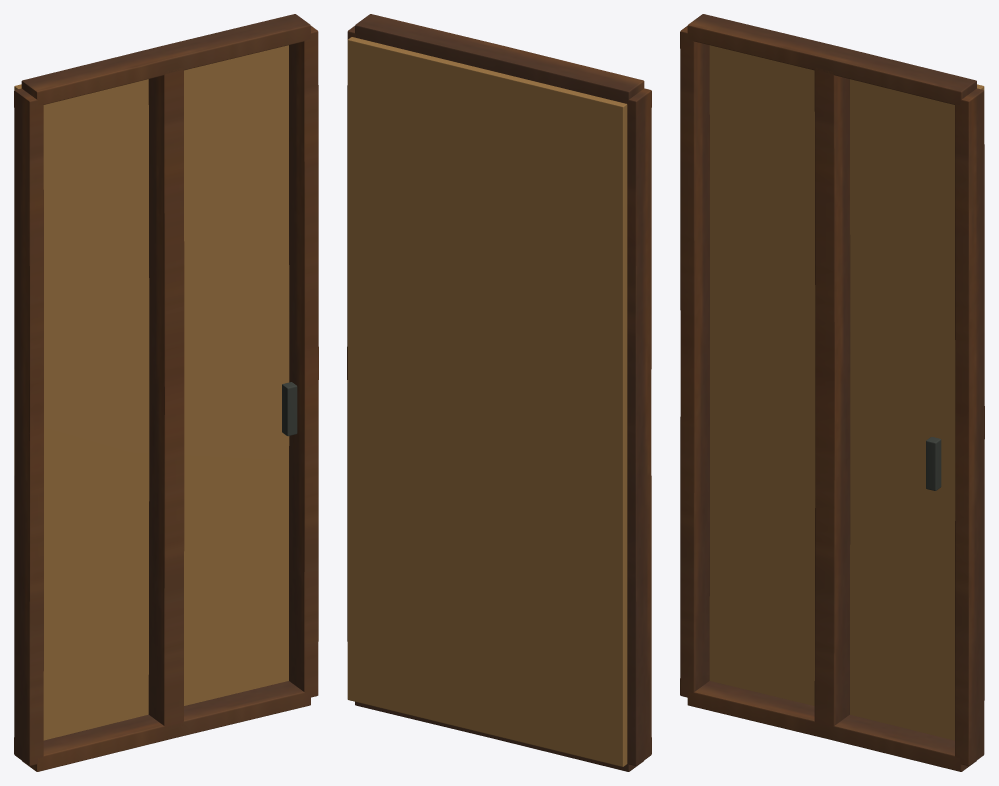
The model's file is CM_PairedWindowBay02_Casement_R.fbx.
3 renders of one model, left to right at view 1: azimuth 30°, elevation 25°; view 2: azimuth 150°, elevation 25°; view 3: azimuth 330°, elevation 25°, orthographic.
Parts seen in each view (by area): view 1: CM_PairedWindowBay02_Casement_R_Geometry; view 2: CM_PairedWindowBay02_Casement_R_Geometry; view 3: CM_PairedWindowBay02_Casement_R_Geometry.
Part boxes in pixels (x1,y1,x2,y2): CM_PairedWindowBay02_Casement_R_Geometry: [14, 14, 318, 771]; CM_PairedWindowBay02_Casement_R_Geometry: [347, 14, 651, 771]; CM_PairedWindowBay02_Casement_R_Geometry: [680, 14, 984, 771].
Size of the model in its own units: 0.684 by 1.54 by 0.1165.
